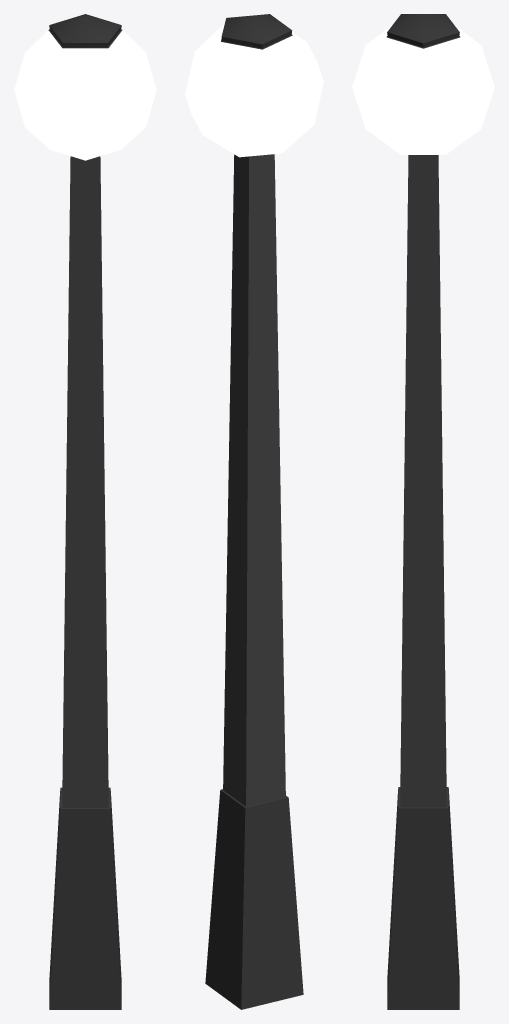
File: Streetbulb.fbx
3 views of the same model, side by side, from view 1: azimuth 90°, elevation 25°; view 2: azimuth 210°, elevation 25°; view 3: azimuth 270°, elevation 25° (orthographic).
Parts seen in each view (by area): view 1: Model_1_Alive.005, Model_0_Dead.005, Model_0_Alive.004; view 2: Model_1_Alive.005, Model_0_Dead.005, Model_0_Alive.004; view 3: Model_1_Alive.005, Model_0_Dead.005, Model_0_Alive.004.
Part boxes in pixels (<box>): Model_1_Alive.005: <box>25,29,145,807</box>; Model_0_Dead.005: <box>49,787,121,1009</box>; Model_0_Alive.004: <box>14,14,156,798</box>; Model_1_Alive.005: <box>194,23,317,806</box>; Model_0_Dead.005: <box>205,789,303,1009</box>; Model_0_Alive.004: <box>185,14,323,799</box>; Model_1_Alive.005: <box>362,25,484,807</box>; Model_0_Dead.005: <box>387,787,459,1009</box>; Model_0_Alive.004: <box>352,14,494,807</box>.
Size of what is drawn, in the model's own units: 0.9381 by 7.47 by 0.9864.
Materials: 1 (1 with a texture image).
